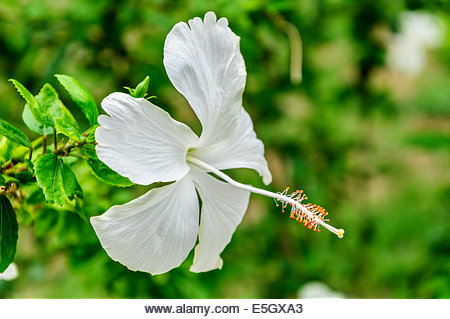Hibiscus: (80, 6, 366, 280)
